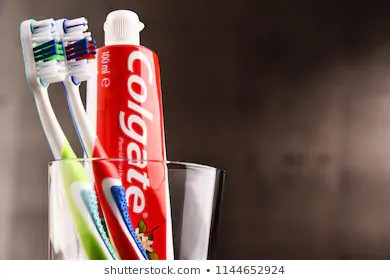toothbrush: (53, 19, 112, 162), (18, 18, 70, 161)
